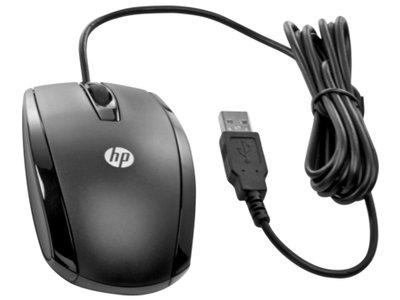hp-mouse-X1000: (8, 6, 385, 300)
